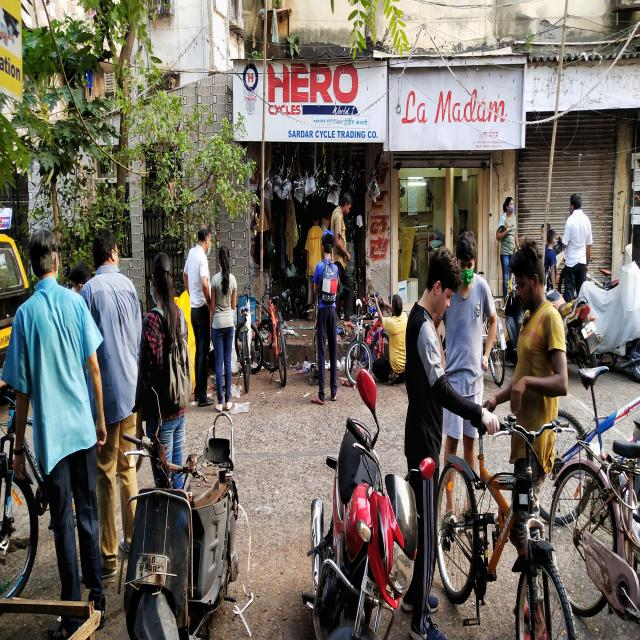bicycle: (435, 413, 575, 640), (549, 436, 640, 622), (234, 284, 264, 393), (258, 282, 286, 387), (345, 300, 372, 384), (364, 300, 389, 362)
motorcycle: (302, 418, 418, 640), (545, 262, 599, 369)
